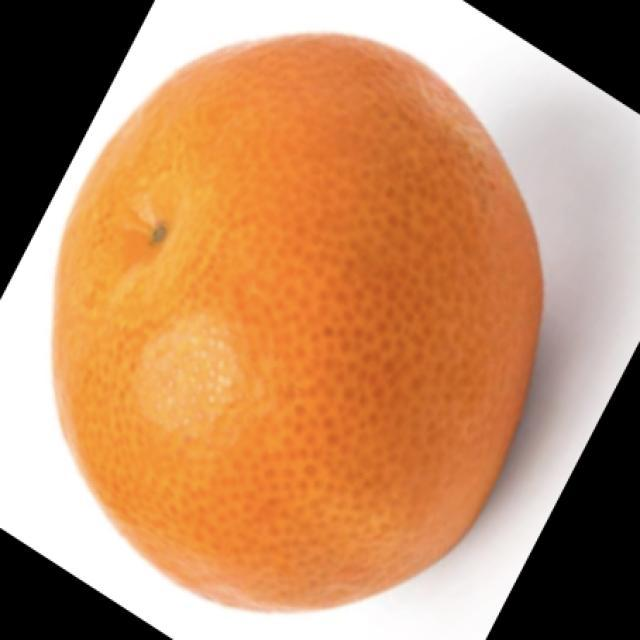matang: (54, 35, 541, 608)
